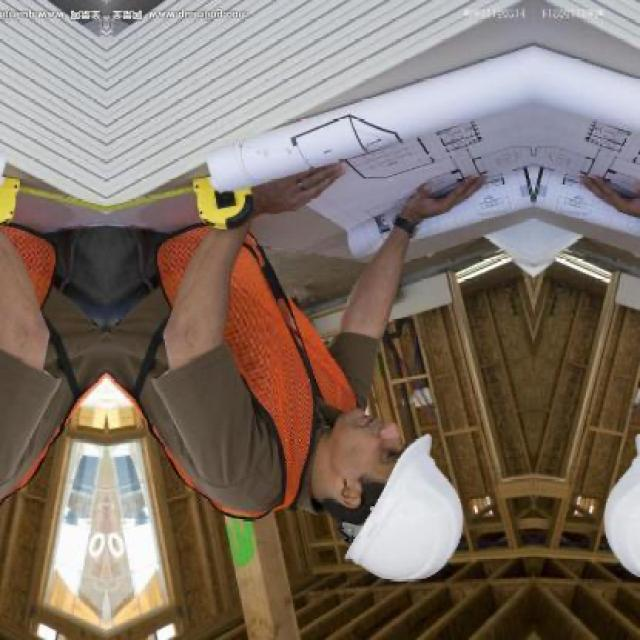con casco: (200, 394, 468, 588)
